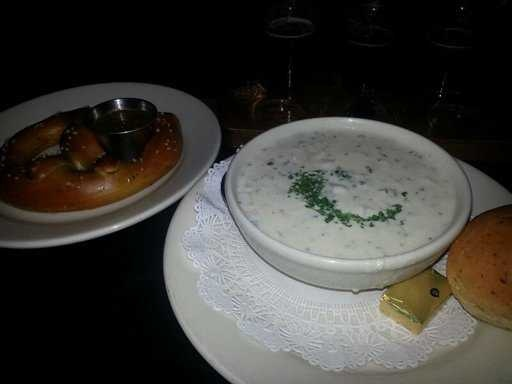soup: (227, 108, 463, 284)
